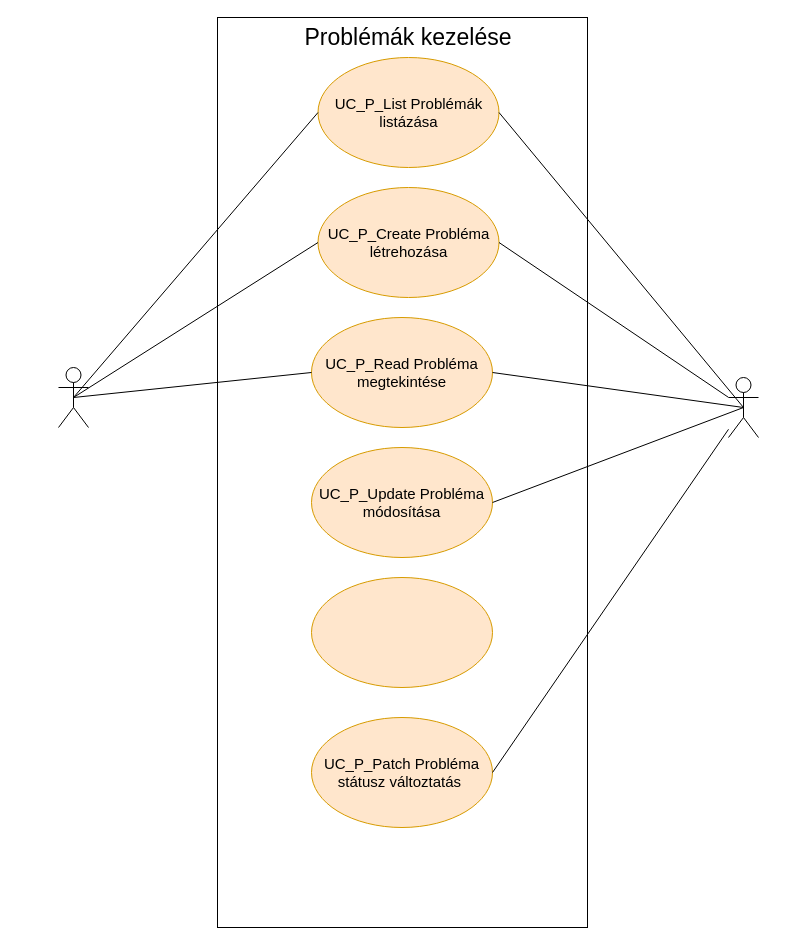
The diagram is 799 pixels wide and 945 high, and some of its shapes have lost their labels. The shapes that lost their labels are listed below. From the top down, each one's centre as x and y in pixels, then its label:
the point at 73,397: Általános felhasználó
the point at 743,407: Adminisztrátor
the point at 401,632: UC_P_Delete Probléma törlése
